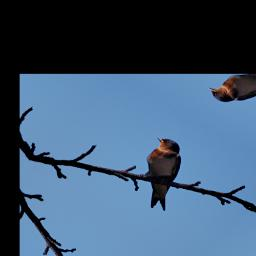Swallow: (110, 134, 213, 214)
